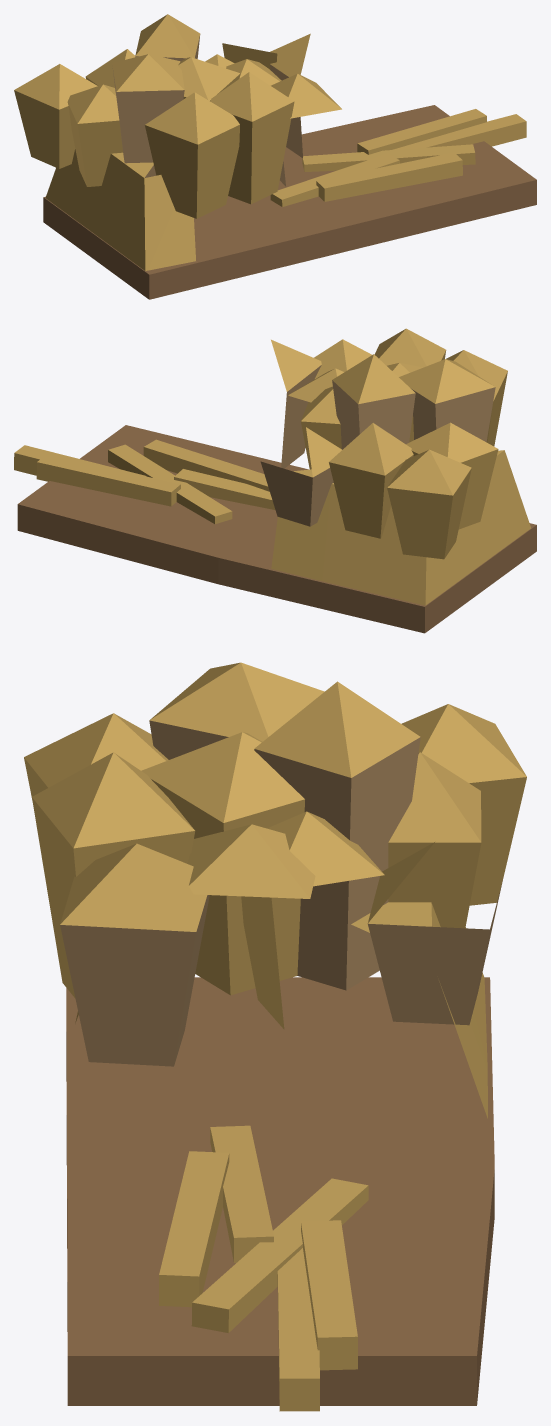
File: work-row-edge.glb
3 views of the same model, one above another, from view 1: azimuth 30°, elevation 25°; view 2: azimuth 150°, elevation 25°; view 3: azimuth 270°, elevation 25° (orthographic). The views are drawn at different scales.
Parts seen in each view (by area): view 1: work-row-edge; view 2: work-row-edge; view 3: work-row-edge.
Boxes of the visible parts, bbox=[...] form: work-row-edge: bbox=[14, 14, 536, 299]; work-row-edge: bbox=[14, 328, 536, 633]; work-row-edge: bbox=[24, 662, 526, 1411].
Bounding box in the file's own units: 2.37 × 1.06 × 1.12.
1 material, 1 textured.
